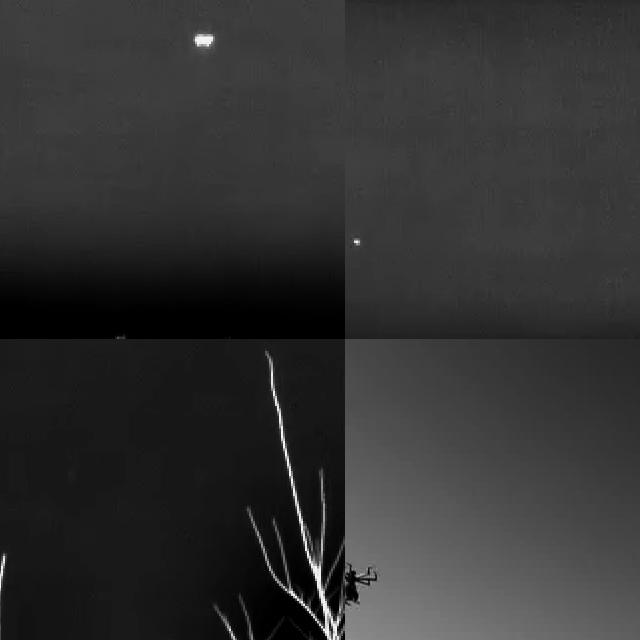0: (57, 460, 79, 494)
1: (168, 23, 236, 65), (345, 231, 367, 259)
drone: (345, 551, 379, 614)
